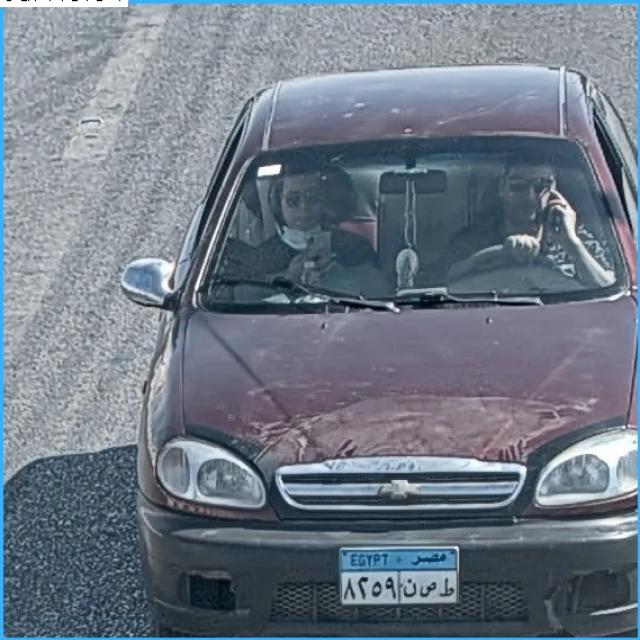windshield: (214, 144, 606, 296)
